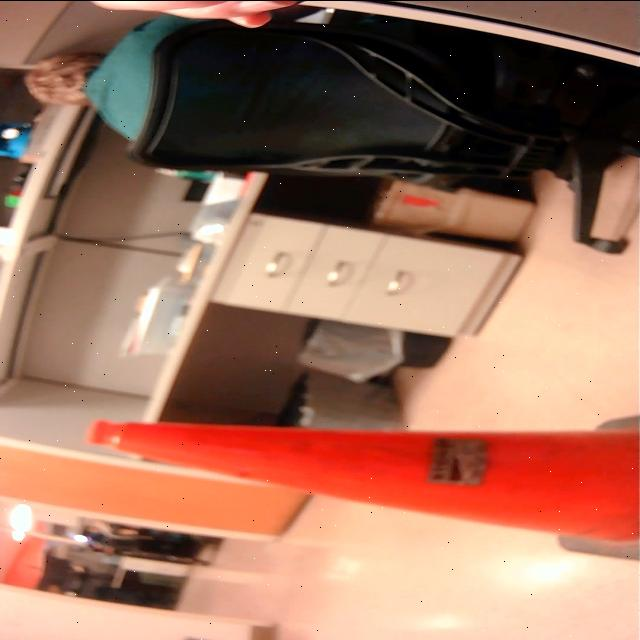traffic cone: (77, 408, 640, 568)
